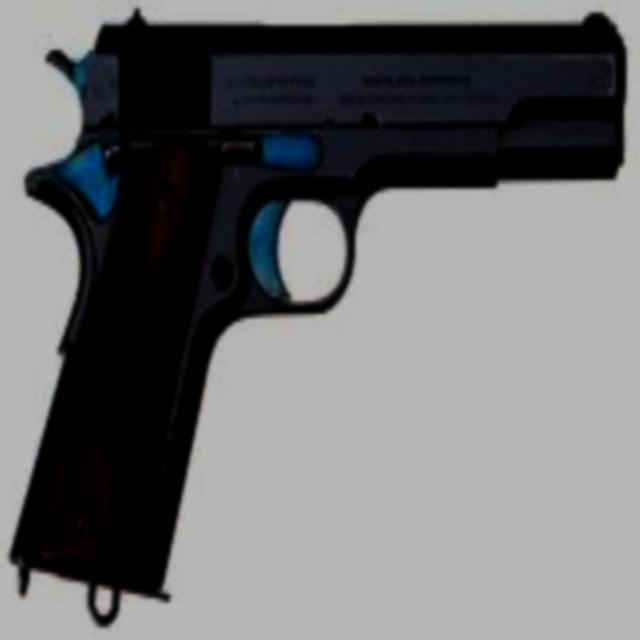semi automatic: (9, 5, 634, 638)
